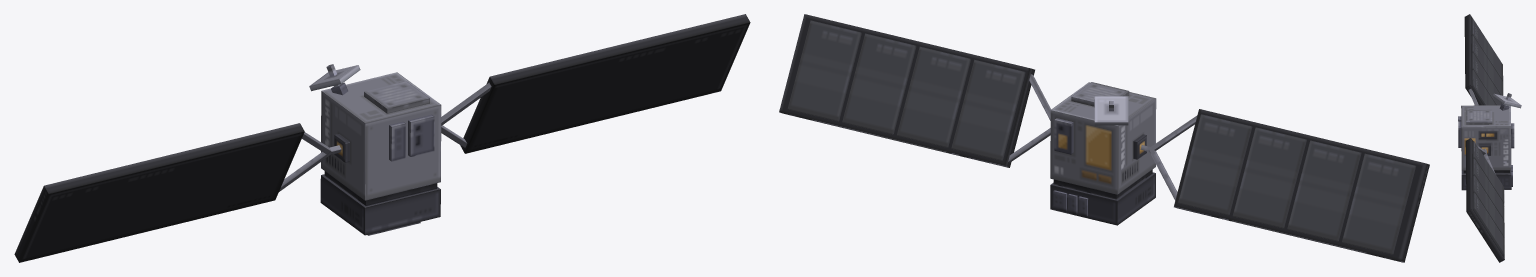
Rendered from Satelite.fbx.
The picture shows the model from 3 angles, left to right: view 1: azimuth 30°, elevation 25°; view 2: azimuth 150°, elevation 25°; view 3: azimuth 270°, elevation 25°; orthographic projection. The views are drawn at different scales.
Parts seen in each view (by area): view 1: RightWing, LeftWing, Satelite; view 2: RightWing, LeftWing, Satelite; view 3: Satelite, LeftWing, RightWing.
Boxes of the visible parts, x1,y1,x2,y2 form: RightWing: (14,123,341,262); LeftWing: (441,14,750,153); Satelite: (309,64,441,235); RightWing: (1140,109,1429,262); LeftWing: (779,14,1050,167); Satelite: (1050,82,1156,225); Satelite: (1458,93,1521,190); LeftWing: (1465,138,1504,262); RightWing: (1464,14,1503,105).
Bounding box in the file's own units: 249 × 49.81 × 34.48.
Materials: 1 (1 with a texture image).
